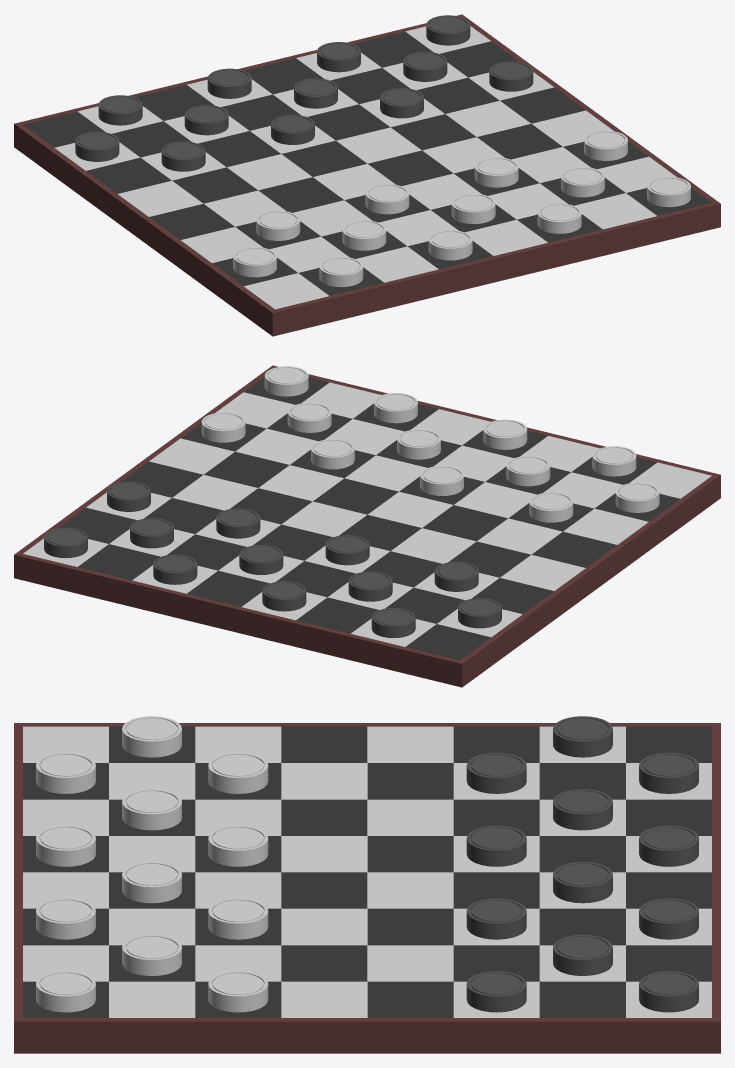
3 renders of one model, top to bottom at view 1: azimuth 30°, elevation 25°; view 2: azimuth 150°, elevation 25°; view 3: azimuth 270°, elevation 25°, orthographic. The views are drawn at different scales.
Visible parts, largest first — view 1: Group_001, Component#3_012, Component#3_006, Component#2_011, Component#2_004, Component#2_003, Component#3_001, Component#3_009, Component#2_005, Component#2_010, Component#3_010, Component#3_002 (+13 smaller); view 2: Group_001, Component#3_010, Component#3_005, Component#3_003, Component#2_012, Component#2_006, Component#2_009, Component#3_011, Component#2_001, Component#3_004, Component#2_004, Component#2_002 (+13 smaller); view 3: Group_001, Component#3_004, Component#2_010, Component#3_006, Component#2_012, Component#3_005, Component#2_011, Component#3_001, Component#2_009, Component#3_011, Component#2_005, Component#3_008 (+13 smaller).
Boxes of the visible parts, bbox=[...] form: Group_001: bbox=[14, 14, 720, 336]; Component#3_012: bbox=[426, 15, 470, 45]; Component#3_006: bbox=[489, 61, 533, 91]; Component#2_011: bbox=[474, 157, 518, 187]; Component#2_004: bbox=[428, 230, 472, 260]; Component#2_003: bbox=[342, 220, 386, 250]; Component#3_001: bbox=[161, 141, 205, 171]; Component#3_009: bbox=[98, 95, 142, 125]; Component#2_005: bbox=[537, 203, 581, 233]; Component#2_010: bbox=[365, 184, 409, 214]; Component#3_010: bbox=[207, 68, 251, 98]; Component#3_002: bbox=[75, 131, 119, 161]; Group_001: bbox=[14, 365, 720, 687]; Component#3_010: bbox=[262, 581, 306, 611]; Component#3_005: bbox=[216, 508, 260, 538]; Component#3_003: bbox=[348, 571, 392, 601]; Component#2_012: bbox=[201, 412, 245, 442]; Component#2_006: bbox=[264, 366, 308, 396]; Component#2_009: bbox=[529, 492, 573, 522]; Component#3_011: bbox=[153, 554, 197, 584]; Component#2_001: bbox=[592, 446, 636, 476]; Component#3_004: bbox=[325, 535, 369, 565]; Component#2_004: bbox=[483, 419, 527, 449]; Component#2_002: bbox=[615, 482, 659, 512]; Group_001: bbox=[14, 723, 720, 1053]; Component#3_004: bbox=[466, 825, 526, 866]; Component#2_010: bbox=[208, 825, 268, 866]; Component#3_006: bbox=[466, 971, 526, 1012]; Component#2_012: bbox=[208, 971, 268, 1012]; Component#3_005: bbox=[466, 898, 526, 939]; Component#2_011: bbox=[208, 898, 268, 939]; Component#3_001: bbox=[466, 752, 526, 793]; Component#2_009: bbox=[208, 752, 268, 793]; Component#3_011: bbox=[639, 898, 698, 939]; Component#2_005: bbox=[36, 898, 95, 939]; Component#3_008: bbox=[553, 934, 612, 975].
Bounding box in the file's own units: 15.75 × 1.18 × 15.75.
